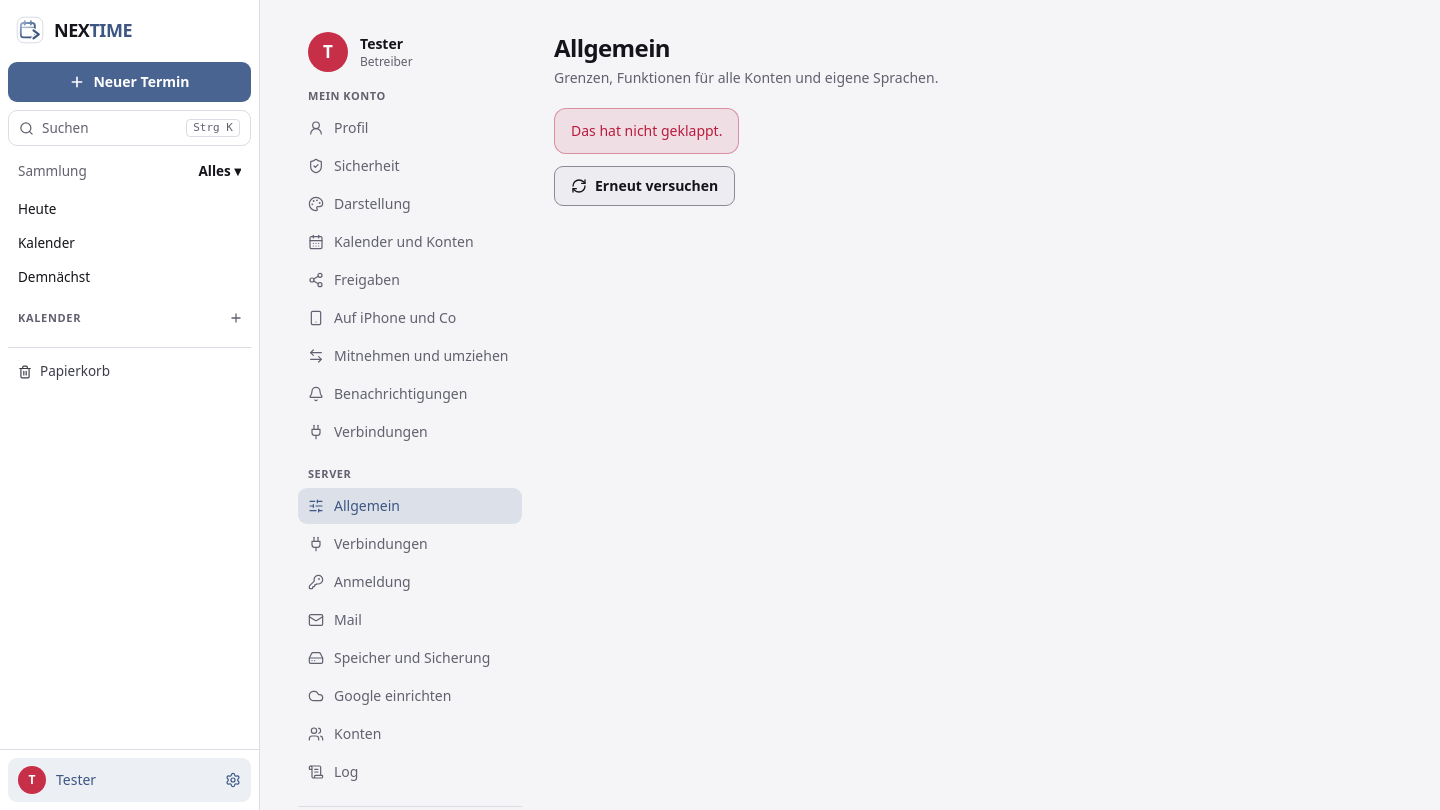
Test: TIME-1 the group "Server" of the settings › Server › Allgemein says why the settings did not come and asks again, instead of staying blank
Expected: the element with test id "server-settings-problem" is shown, [554,108,739,206]
What coordinates should you click on to do the following:
click the button with test id "server-settings-retry"
I would click on:
 (645, 186)
Its box is [554,166,735,206].
(page scrolled)
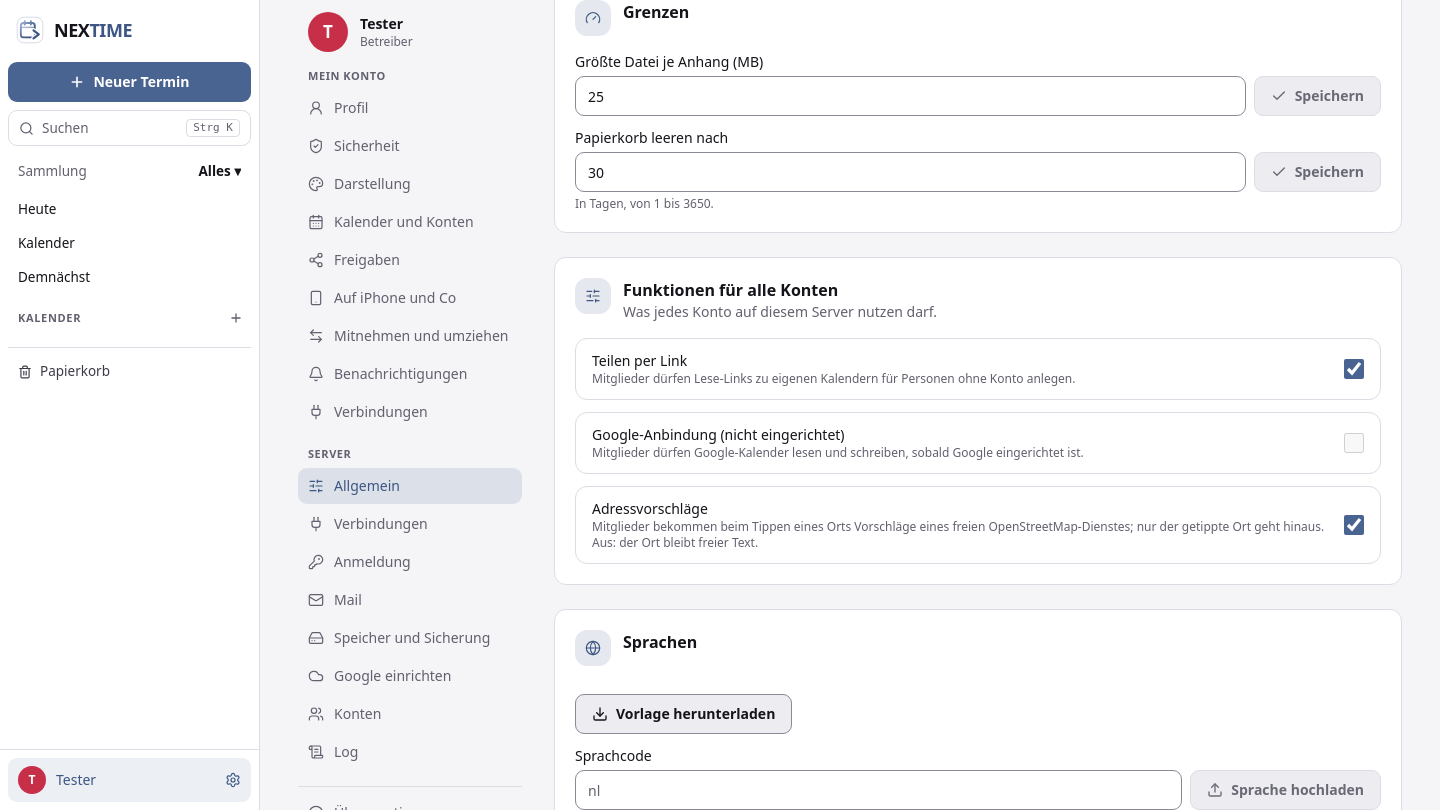
Now the element with test id "server-general" is shown, box [554,0,1402,809]
Now the element with test id "server-settings-problem" is gone
